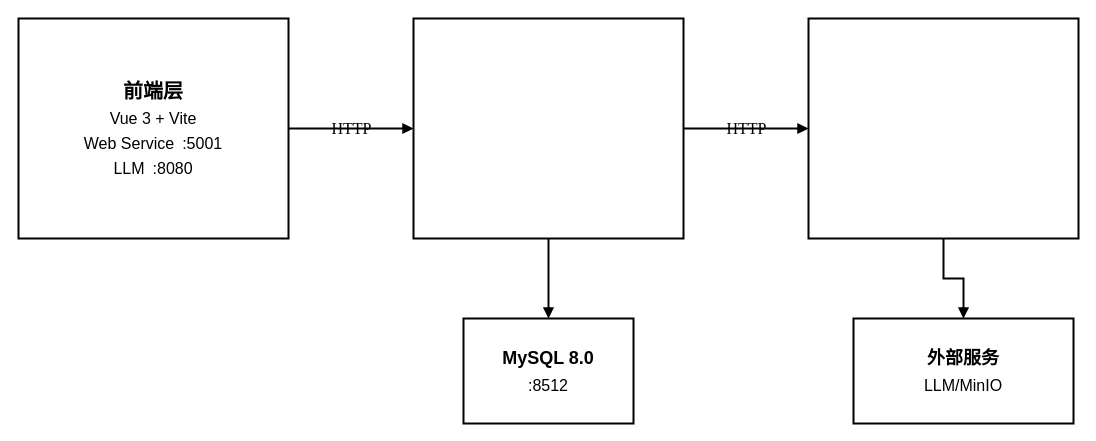
The diagram is 1096 pixels wide and 441 high, and some of its shapes have lost their labels. The shapes that lost their labels are listed below. From the top down, each one's centre as x and y in pixels, then its label:
(x=548, y=128): 后端层 Spring Boot :8081
(x=943, y=128): 算法服务层 Flask + :8000
